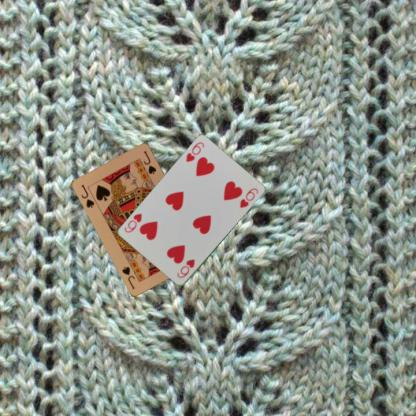6h: (183, 140, 206, 163), (174, 257, 196, 280)
Js: (78, 182, 96, 209)
